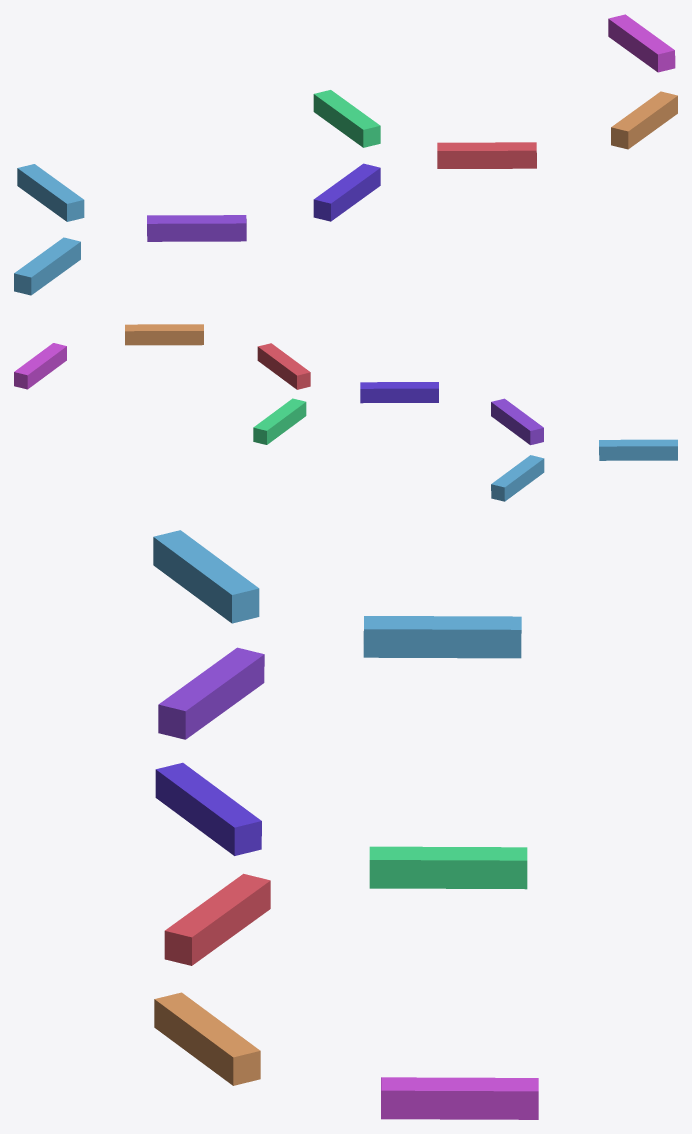
File: roads8.dae
The picture shows the model from 3 angles, top to bottom: view 1: azimuth 30°, elevation 25°; view 2: azimuth 150°, elevation 25°; view 3: azimuth 270°, elevation 25°; orthographic projection. The views are drawn at different scales.
Parts seen in each view (by area): view 1: road.056; view 2: road.056; view 3: road.056.
Boxes of the visible parts, x1,y1,x2,y2 form: road.056: (14, 14, 677, 295); road.056: (14, 324, 677, 501); road.056: (153, 530, 538, 1119).
Size of the model in its own units: 4.21 by 1.22 by 0.1024.
